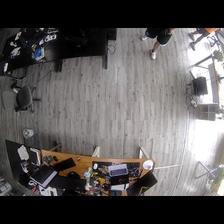normal: (141, 28, 172, 60)
